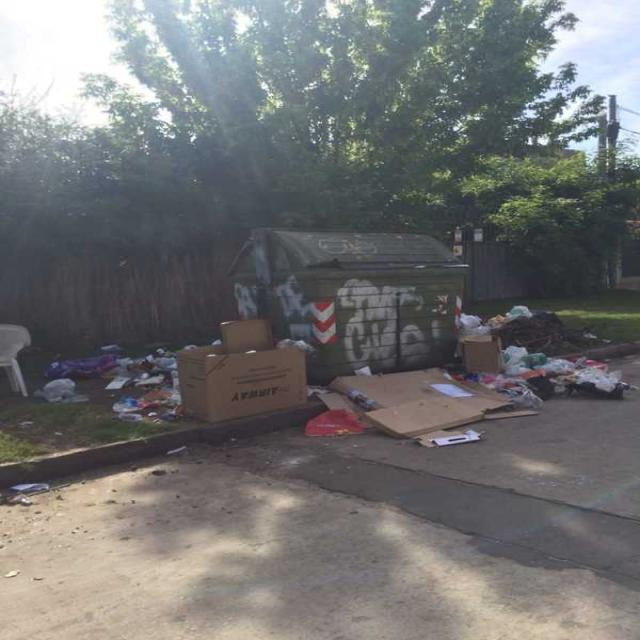garbage: (306, 365, 543, 451), (150, 313, 317, 429), (454, 304, 640, 408), (35, 336, 182, 418), (0, 324, 34, 399), (0, 473, 69, 506)
